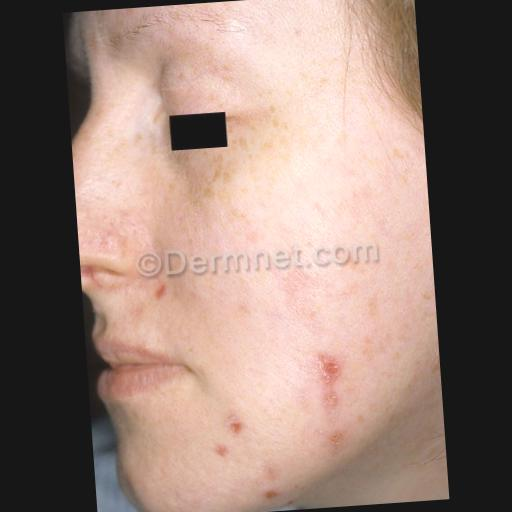Skin_Lesion: (196, 399, 257, 468), (304, 344, 361, 408), (320, 420, 354, 460), (256, 474, 292, 506), (152, 276, 184, 308)
